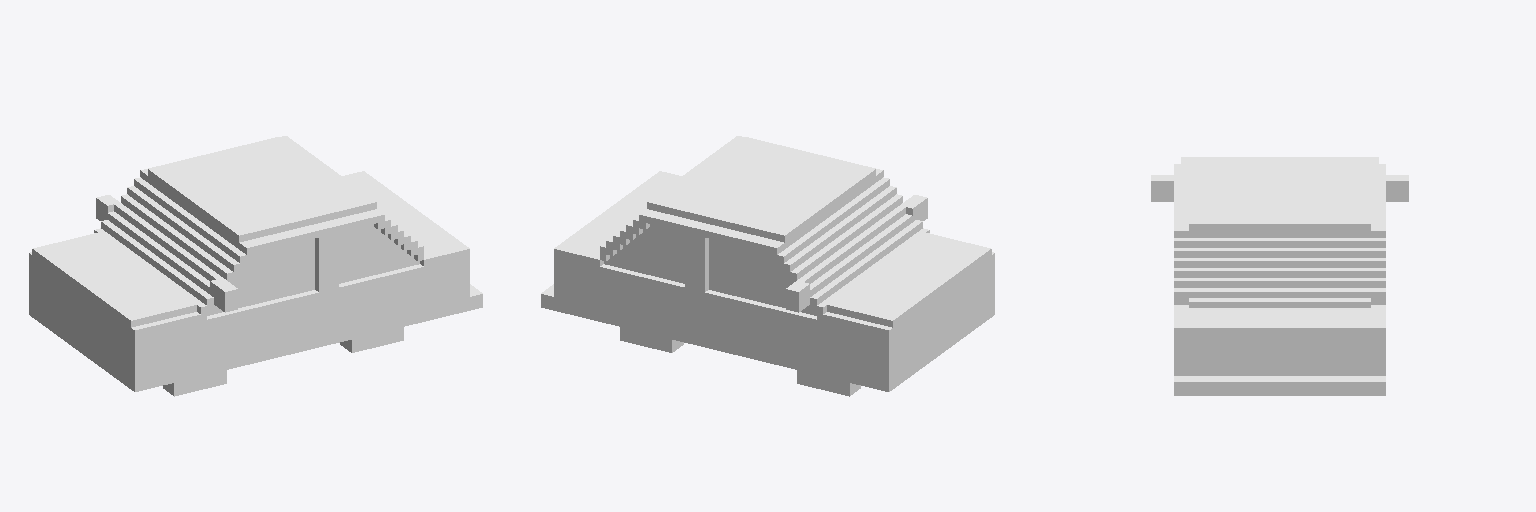
The model's file is car:sedan-a.obj.
3 renders of one model, left to right at view 1: azimuth 30°, elevation 25°; view 2: azimuth 150°, elevation 25°; view 3: azimuth 270°, elevation 25°, orthographic.
Visible parts, largest first — view 1: car:sedan-a; view 2: car:sedan-a; view 3: car:sedan-a.
Part boxes in pixels (left/top/right/bottom): car:sedan-a: left=29, top=136, right=482, bottom=396; car:sedan-a: left=541, top=136, right=994, bottom=396; car:sedan-a: left=1151, top=157, right=1408, bottom=395.
Bounding box in the file's own units: 53 × 20 × 34.